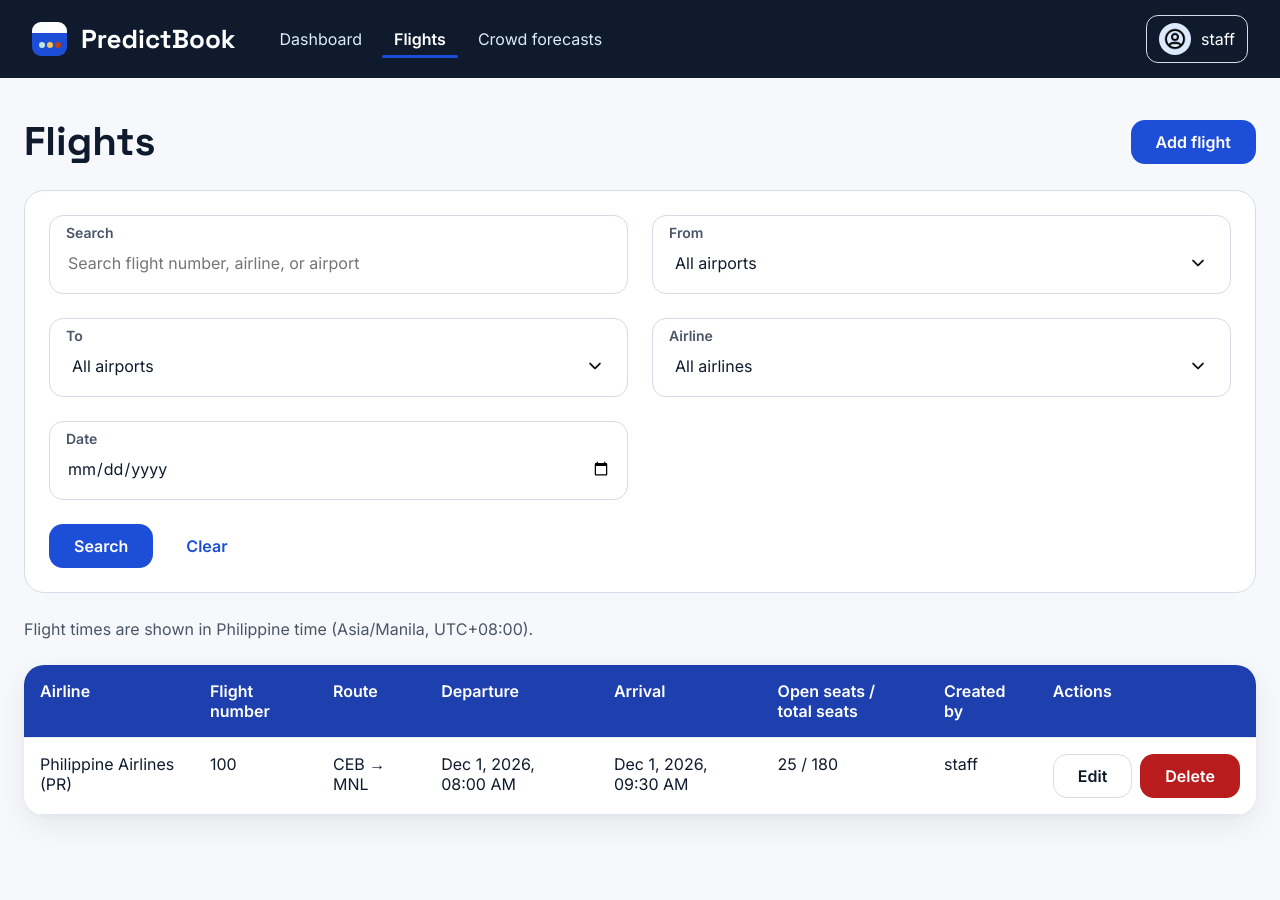
Test case: prevents duplicate deletion while a request is pending
Click the button "Delete" at (1190,776), box [1140,754,1240,798]
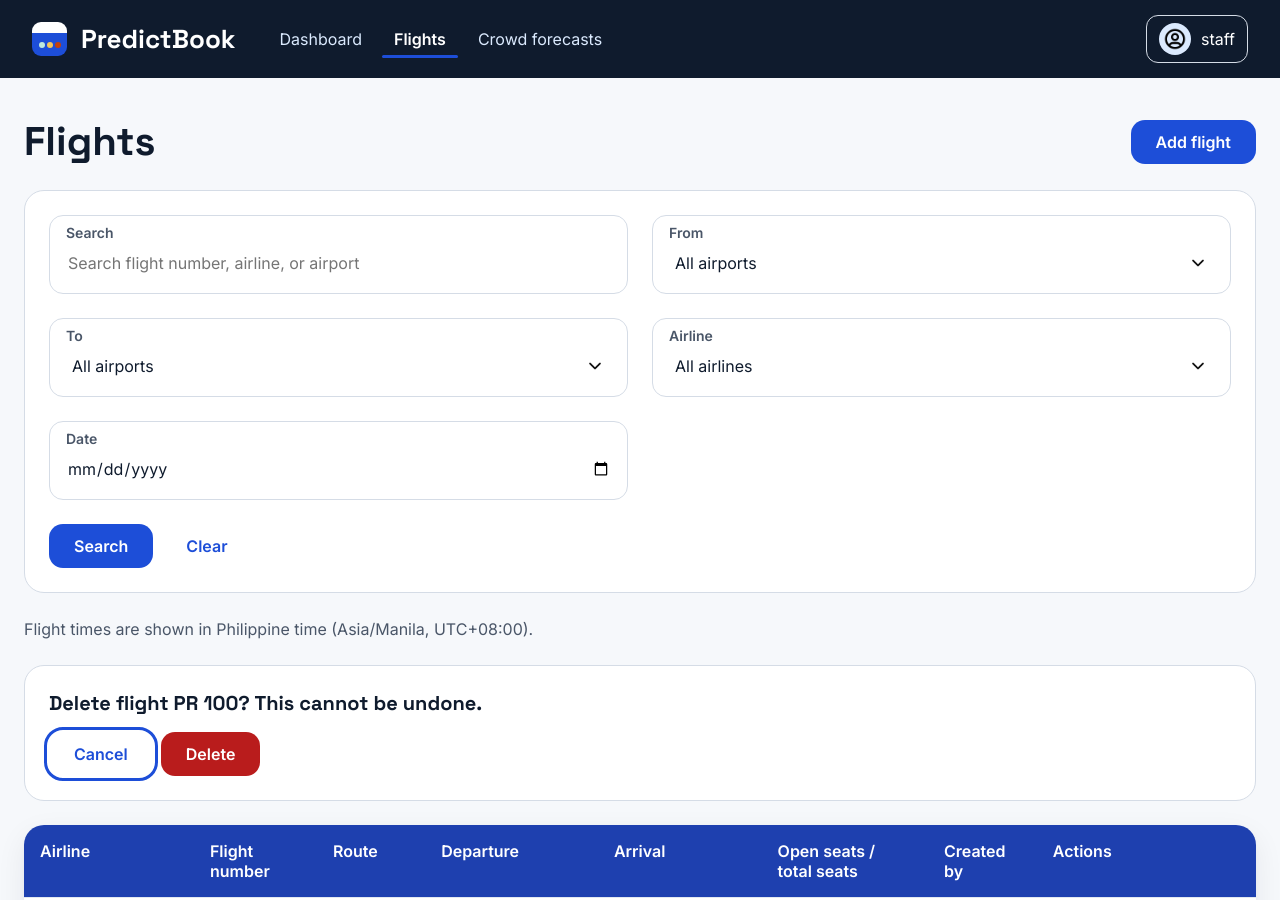
Click the button with class "record-danger" at (210,754), box [161,732,260,776]
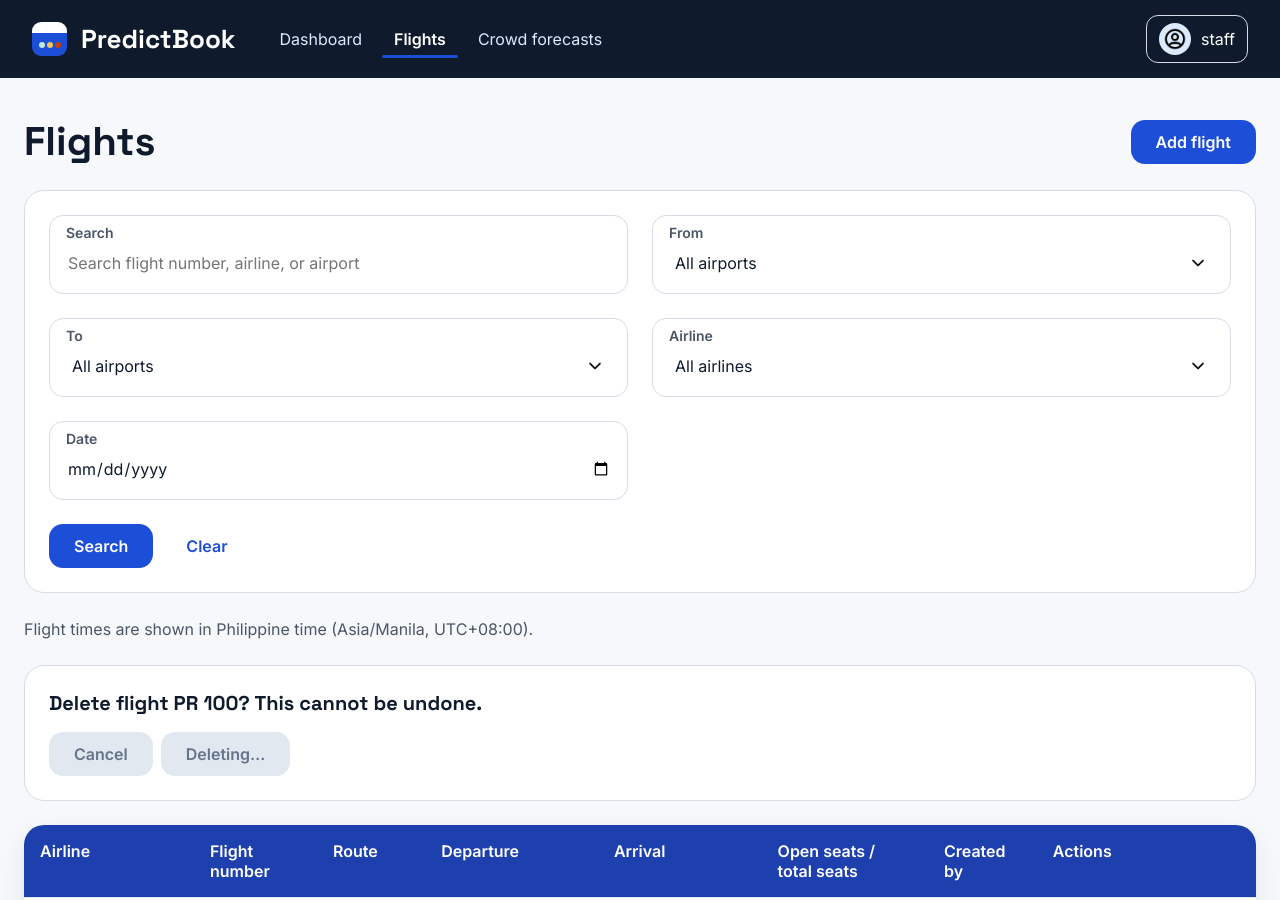
Expected: the button with class "record-ghost" showing "Cancel" is disabled, [49,732,153,776]
Expected: the button with class "record-danger" is disabled, [161,732,290,776]
